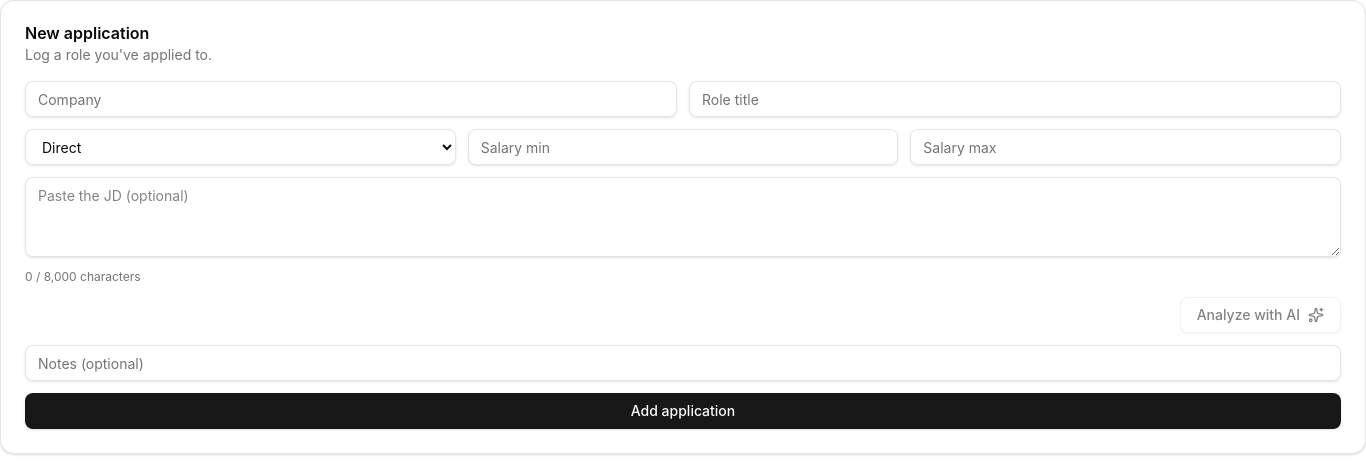
Scenario: ApplicationForm › Analyze with AI › autofills the form from a successful jd-parse result
Type "Some JD text" into the text box with placeholder "Paste the JD (optional)". click: (683, 217)
box: left=25, top=177, right=1341, bottom=257
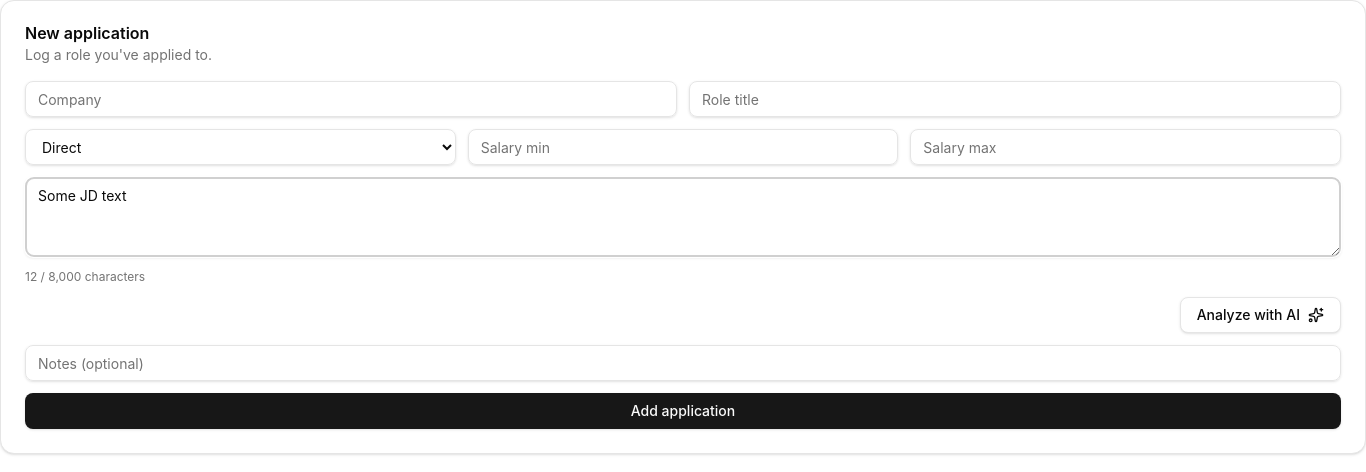
Click the button "Analyze with AI". click: (1260, 315)
box: left=1180, top=297, right=1341, bottom=333
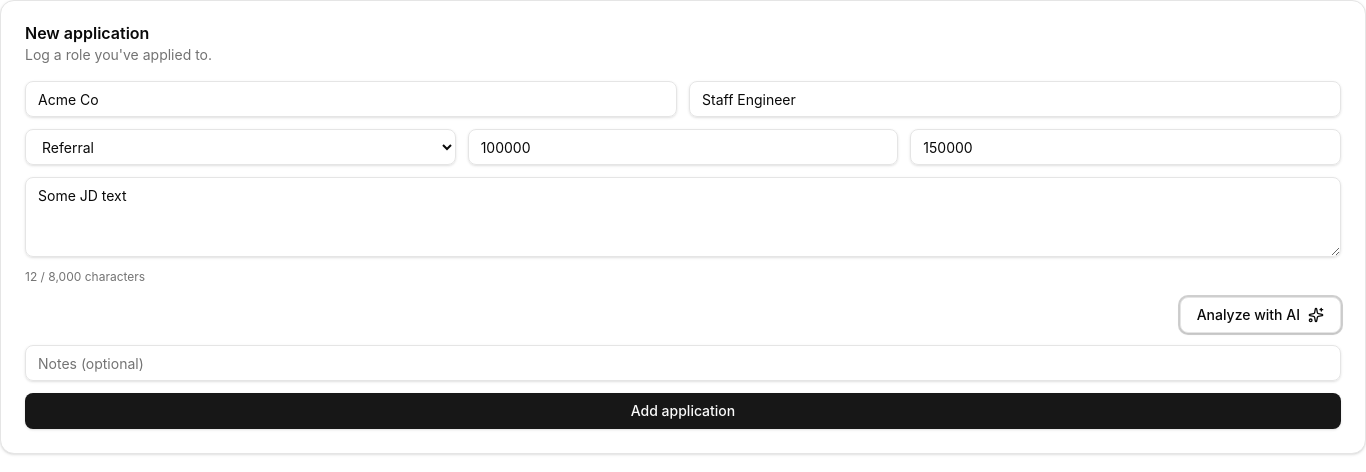
Now the 1st field with placeholder "Company" holds "Acme Co", box left=25, top=81, right=677, bottom=117
Now the 2nd field with placeholder "Role title" holds "Staff Engineer", box left=689, top=81, right=1341, bottom=117
Now the 1st number field with placeholder "Salary min" holds "100000", box left=468, top=129, right=898, bottom=165
